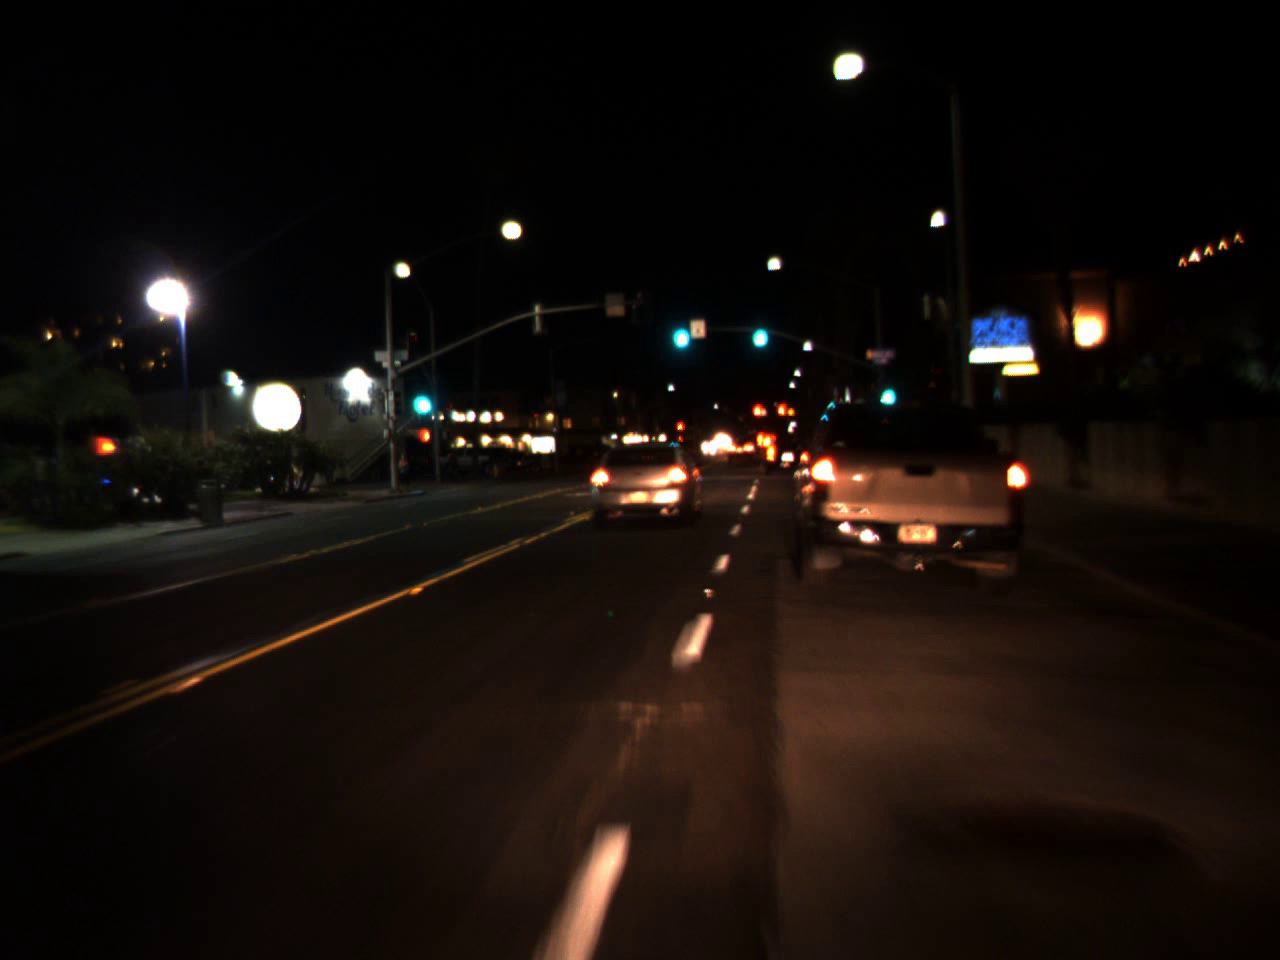go: (406, 369, 434, 423), (666, 304, 693, 355), (747, 307, 770, 352), (874, 371, 899, 410)
